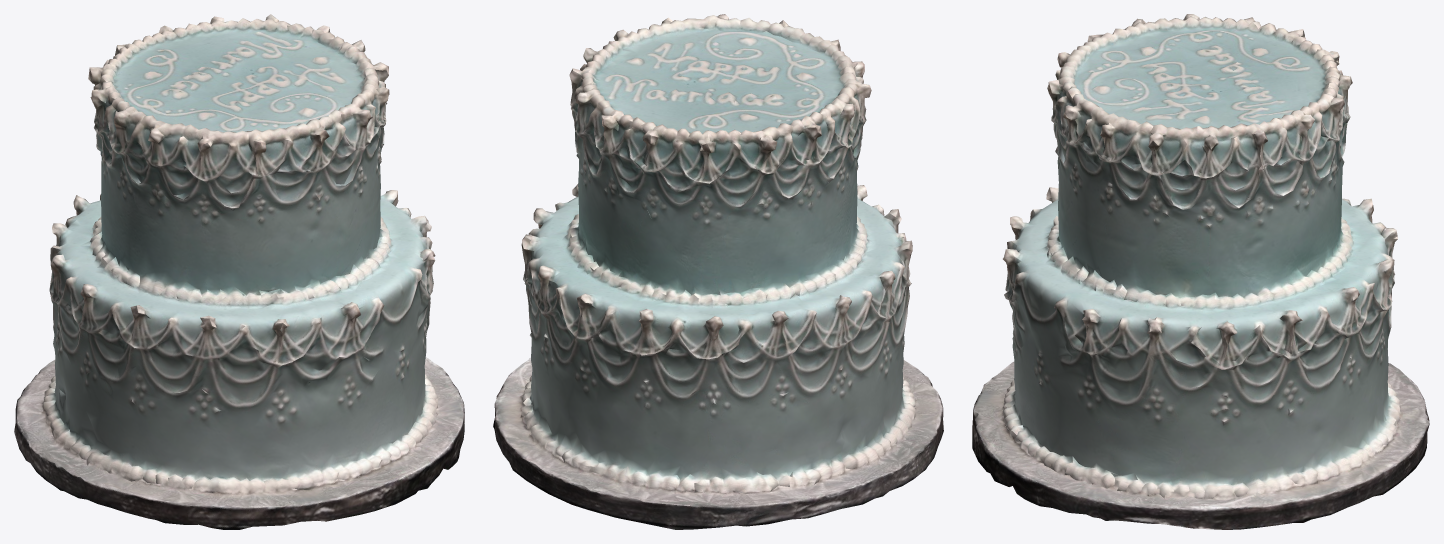
Rendered from wedding-cake.glb.
3 views of the same model, side by side, from view 1: azimuth 30°, elevation 25°; view 2: azimuth 150°, elevation 25°; view 3: azimuth 270°, elevation 25° (orthographic).
Size of the model in its own units: 0.2729 by 0.2439 by 0.2731.
Materials: 1 (1 with a texture image).
